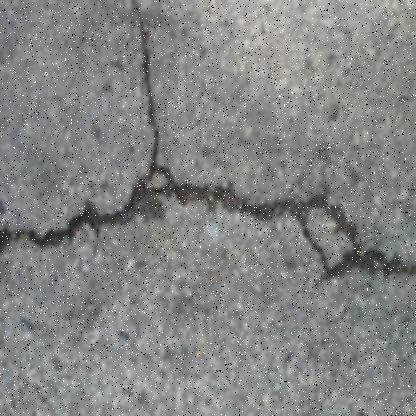Cracks: (0, 157, 415, 288), (128, 0, 179, 213)
